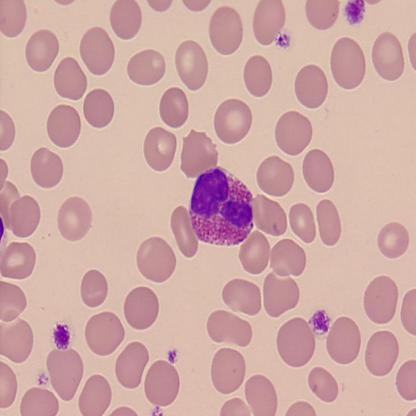Eosinophil: (189, 164, 252, 245)
